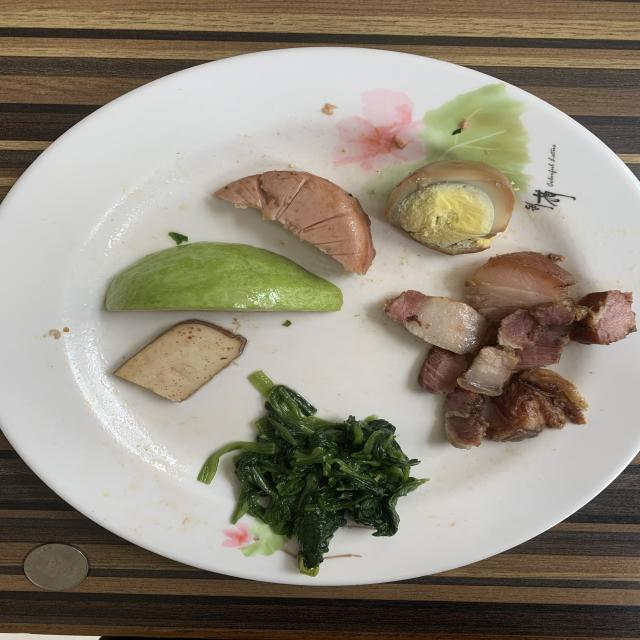Spam: (213, 170, 375, 274)
coin: (23, 544, 88, 591)
firm tofu: (113, 320, 247, 402)
grilled pork: (383, 251, 637, 449)
guava -sliced-: (105, 241, 343, 311)
mustard greens: (198, 370, 427, 576)
soy egg: (385, 160, 515, 255)
